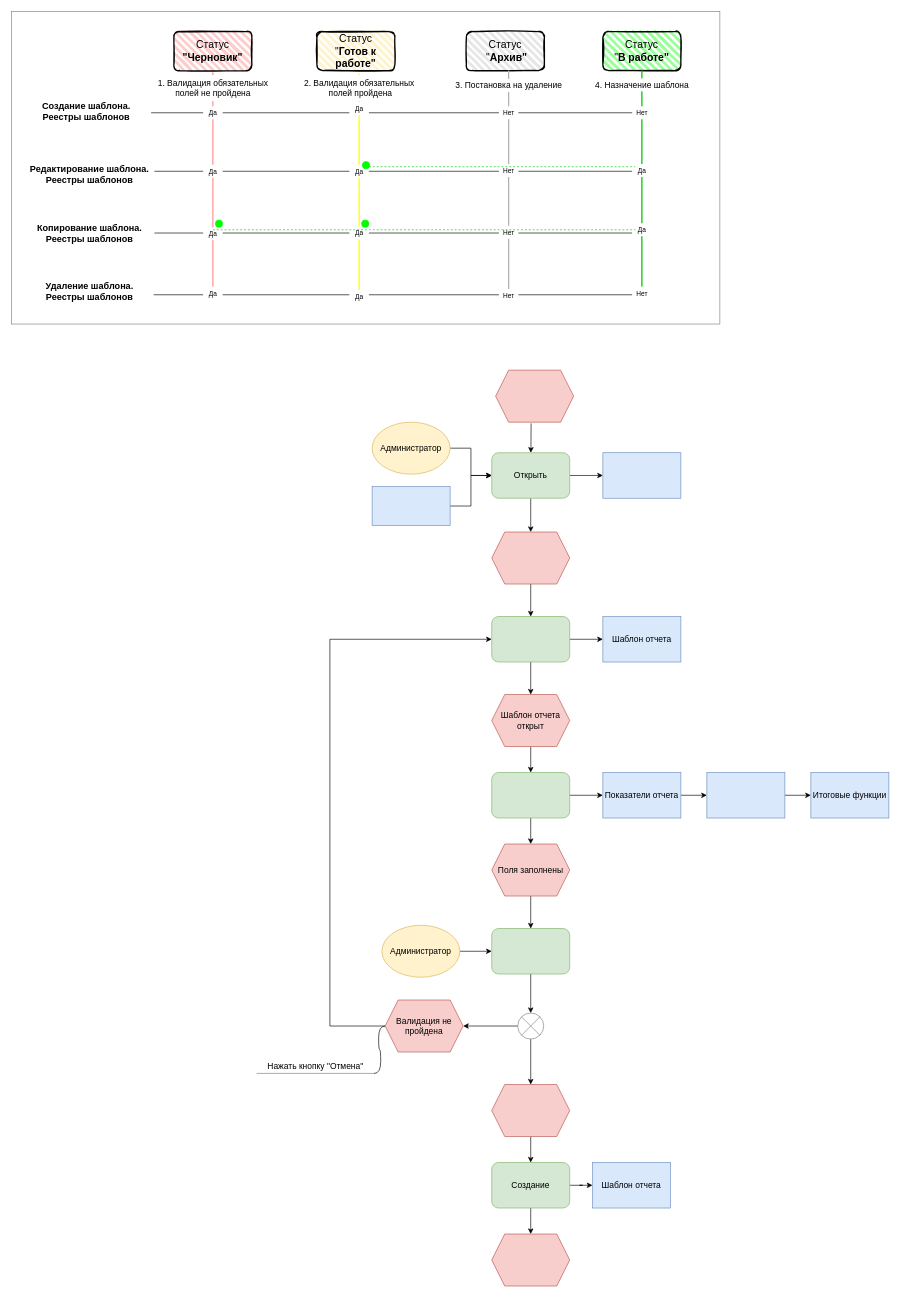
The diagram is 900 pixels wide and 1297 high, and some of its shapes have lost their labels. The shapes that lost their labels are listed below. From the top down, each one's centre as x and y in pixels, then its label:
At (x=534, y=396): "Создание отчета".
At (x=641, y=475): "Реестр отчетов".
At (x=410, y=506): "Система".
At (x=530, y=557): "Реестр отчетов открыт".
At (x=530, y=639): "Создать".
At (x=530, y=795): "Заполнение полей".
At (x=745, y=795): "Цветовой диапазон окрашивания".
At (x=530, y=951): "Сохранение".
At (x=530, y=1110): "Валидация пройдена".
At (x=530, y=1259): "Отчет создан".
